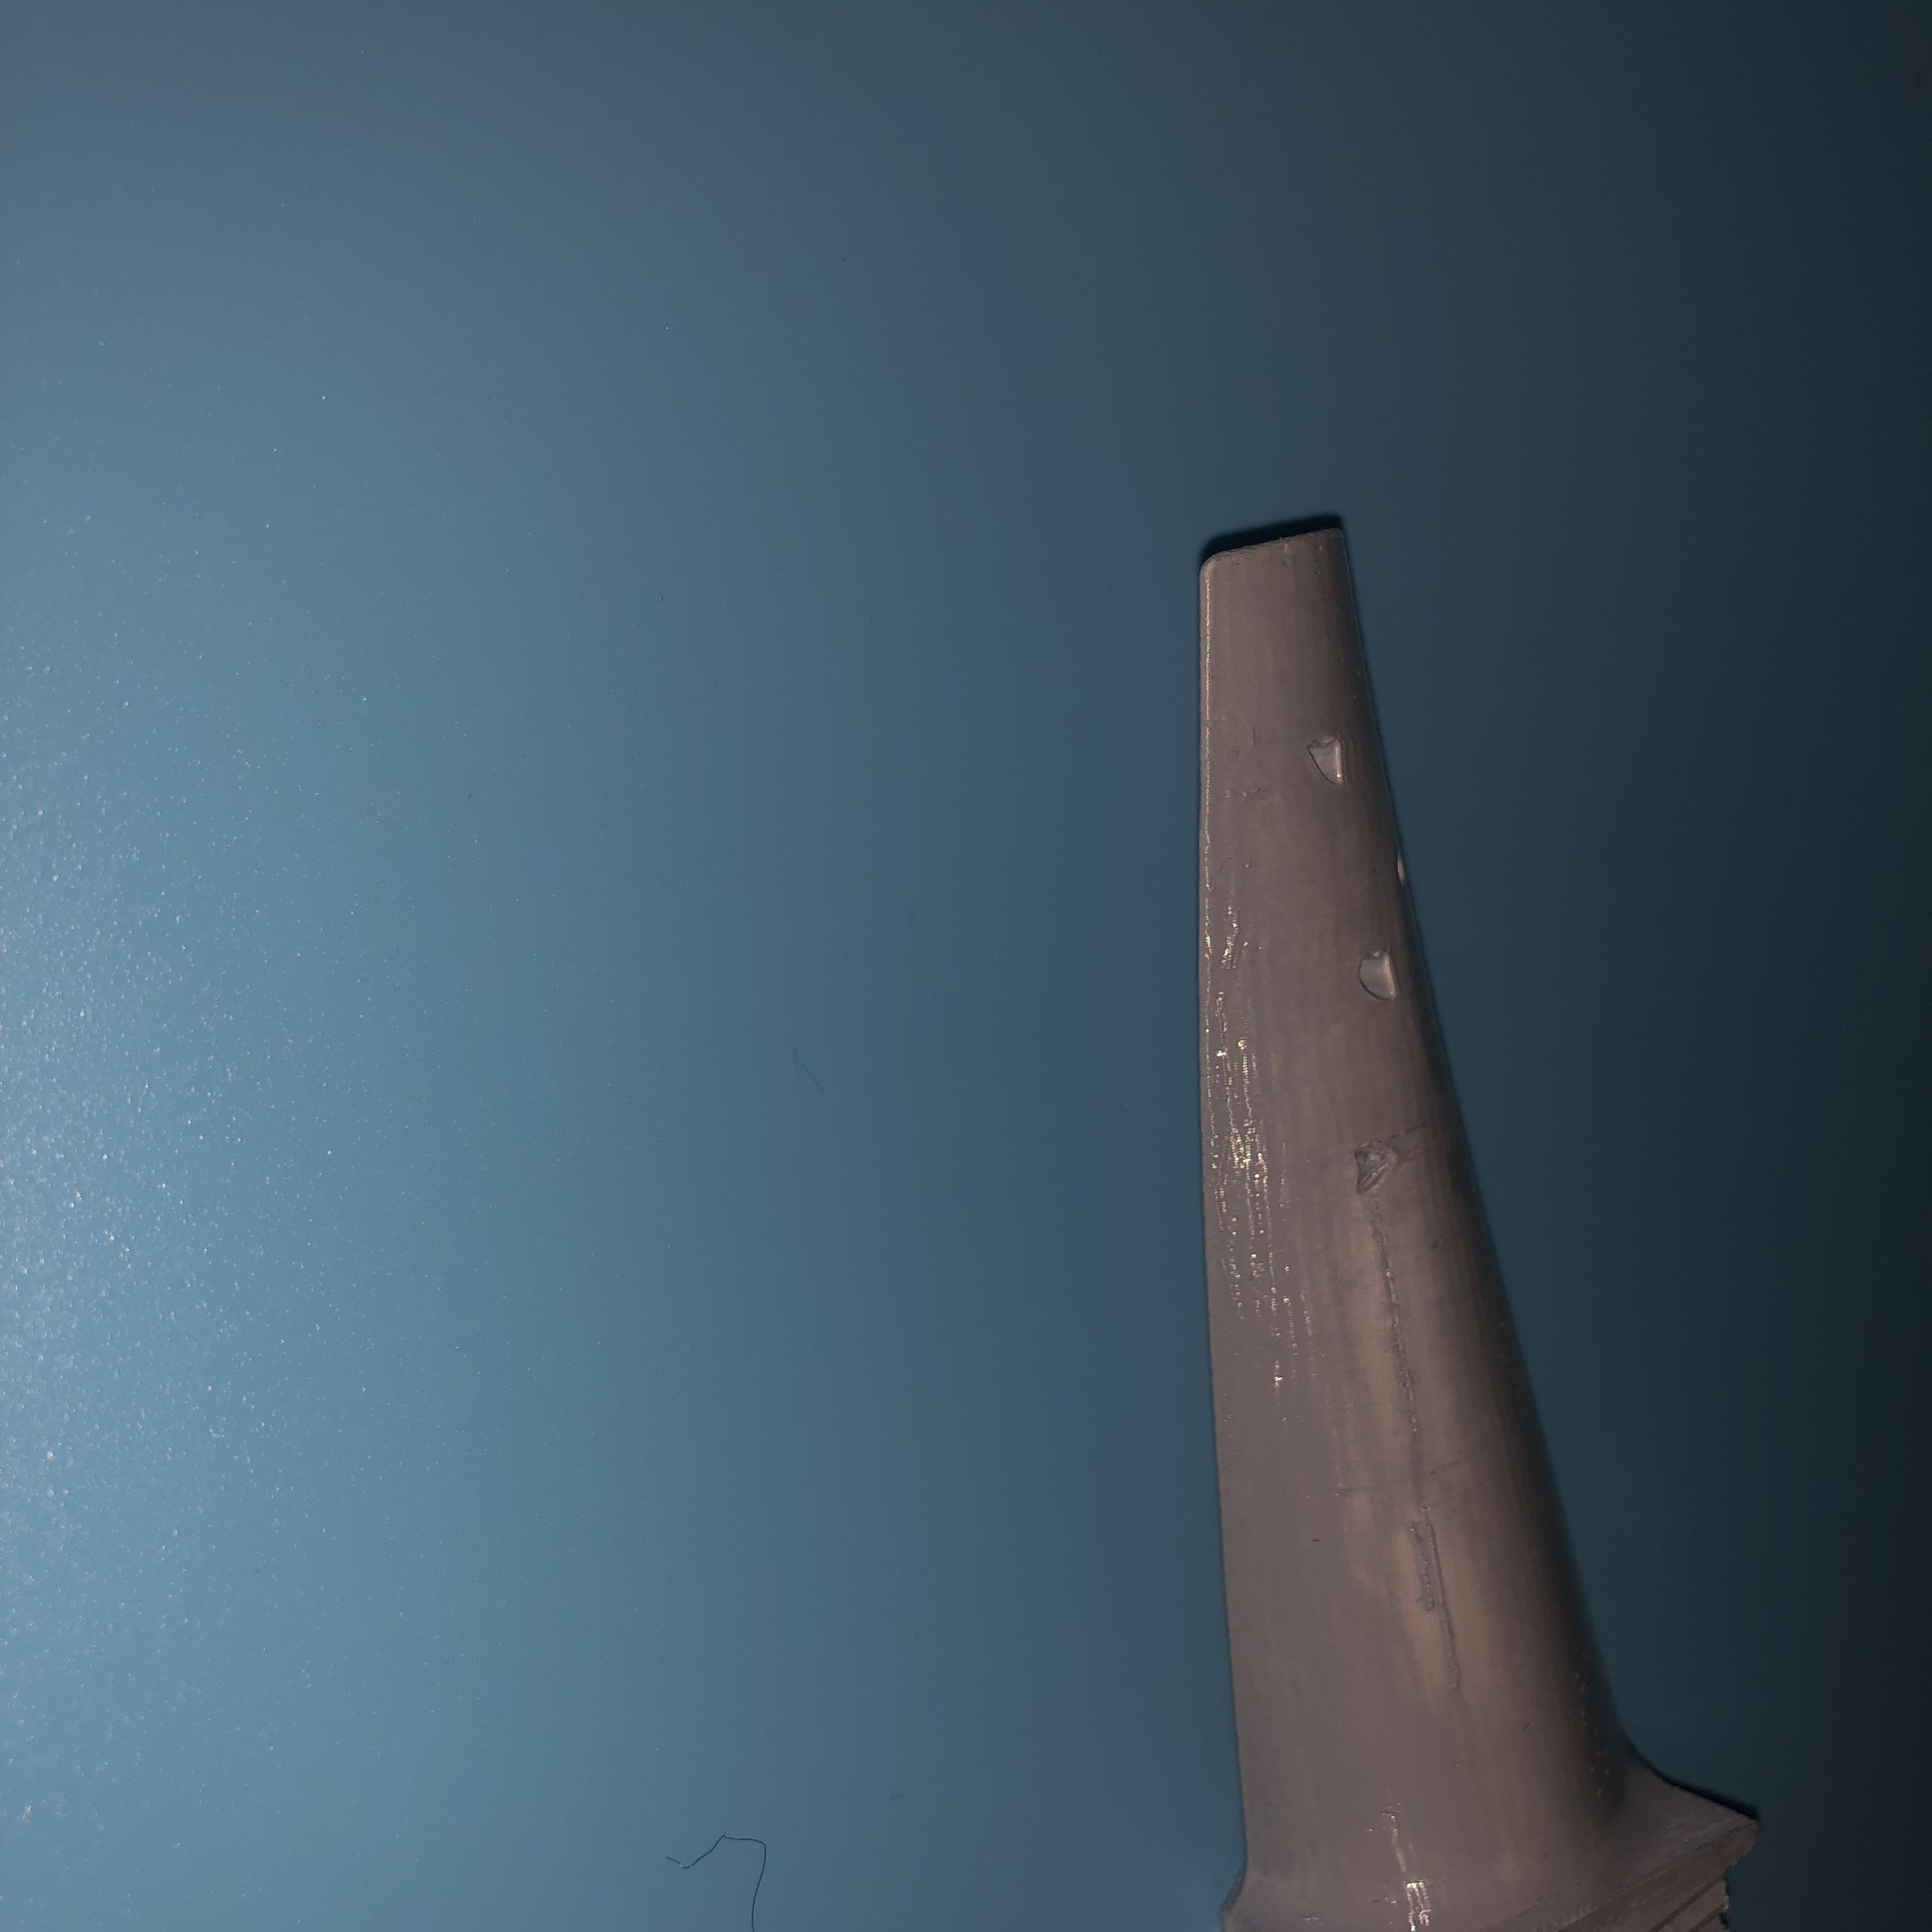breakdown: (1338, 943, 1428, 1200), (1295, 731, 1357, 791), (1380, 847, 1417, 890)
